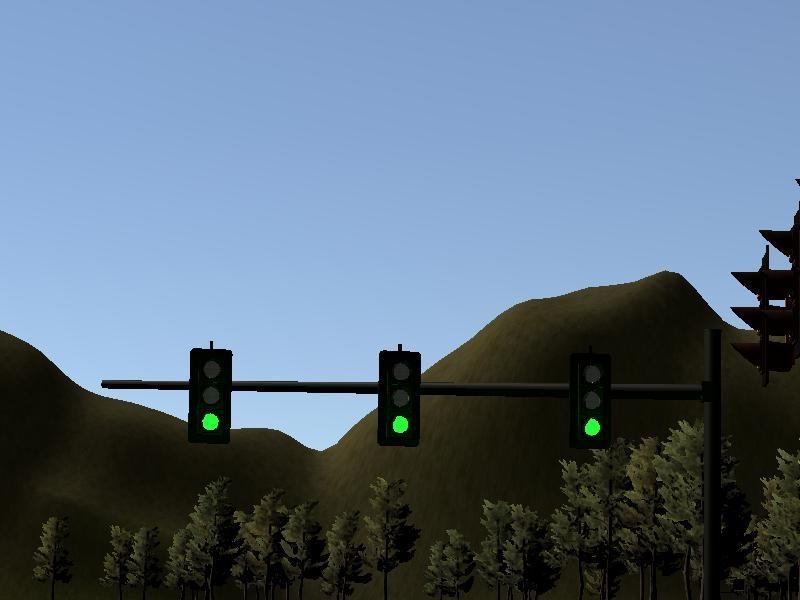GREEN: (188, 347, 232, 443), (376, 350, 420, 446), (568, 352, 612, 448)
